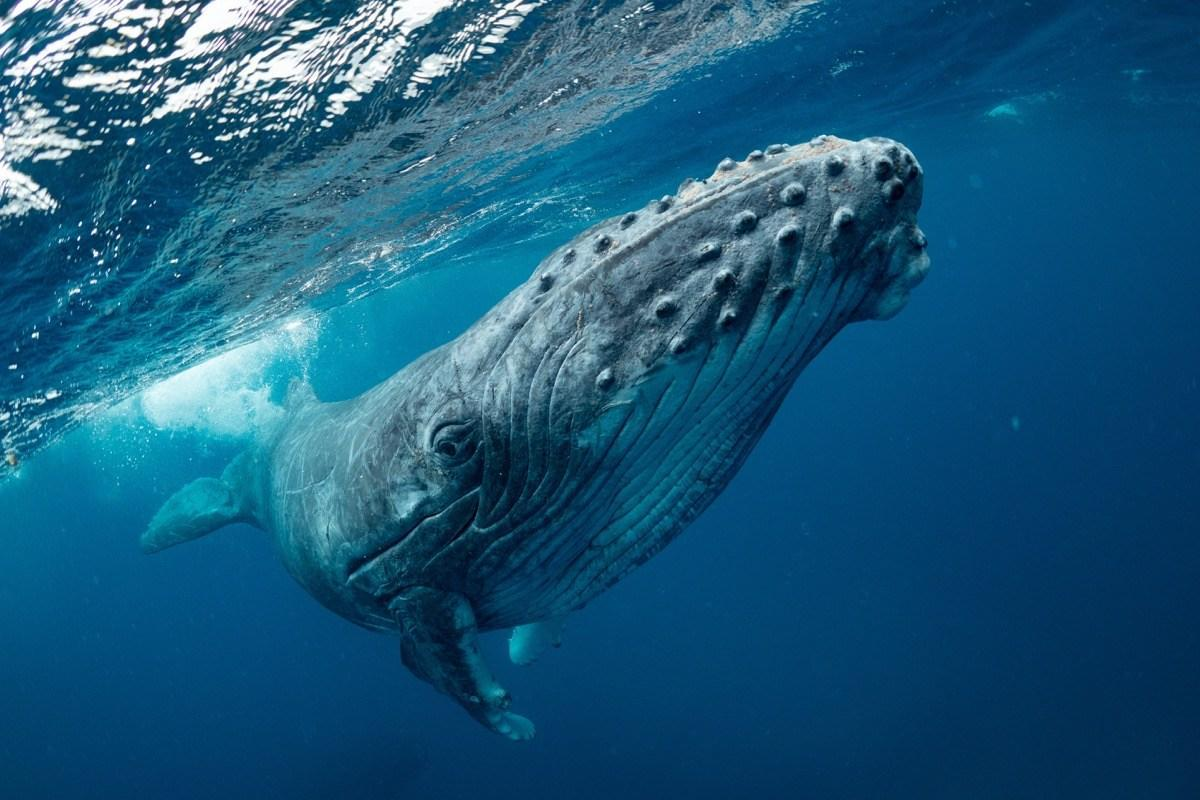fish: (121, 135, 927, 743)
